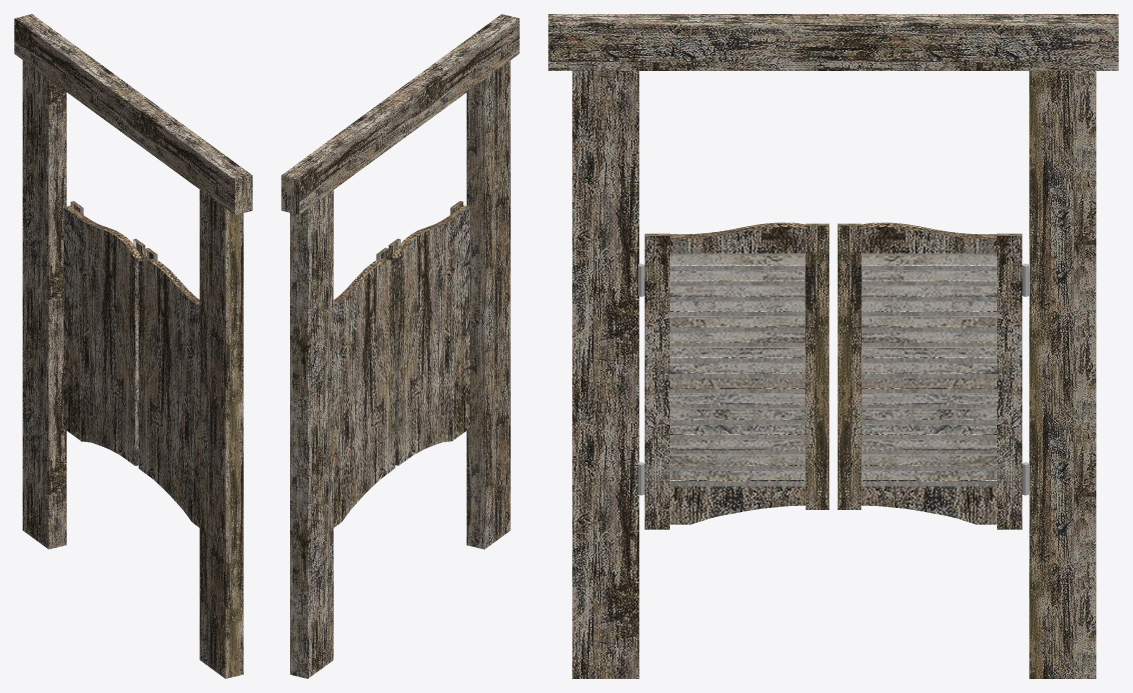
The model's file is Saloon_door.fbx.
3 views of the same model, side by side, from view 1: azimuth 30°, elevation 25°; view 2: azimuth 150°, elevation 25°; view 3: azimuth 270°, elevation 25° (orthographic). The views are drawn at different scales.
Parts seen in each view (by area): view 1: Doorframe, Door itself.001, Door itself; view 2: Doorframe, Door itself, Door itself.001; view 3: Doorframe, Door itself, Door itself.001.
Part boxes in pixels (x1,y1,x2,y2): Doorframe: (14, 14, 252, 678); Door itself.001: (63, 201, 145, 465); Door itself: (138, 248, 199, 527); Doorframe: (281, 14, 519, 678); Door itself: (388, 201, 469, 465); Door itself.001: (333, 247, 395, 527); Doorframe: (548, 14, 1118, 678); Door itself: (644, 222, 829, 529); Door itself.001: (837, 222, 1022, 529).
Size of the model in its own units: 10 by 215 by 170.
